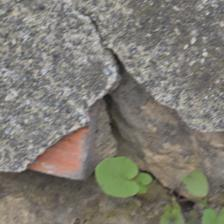Crack: (57, 34, 173, 138), (66, 44, 133, 143)
